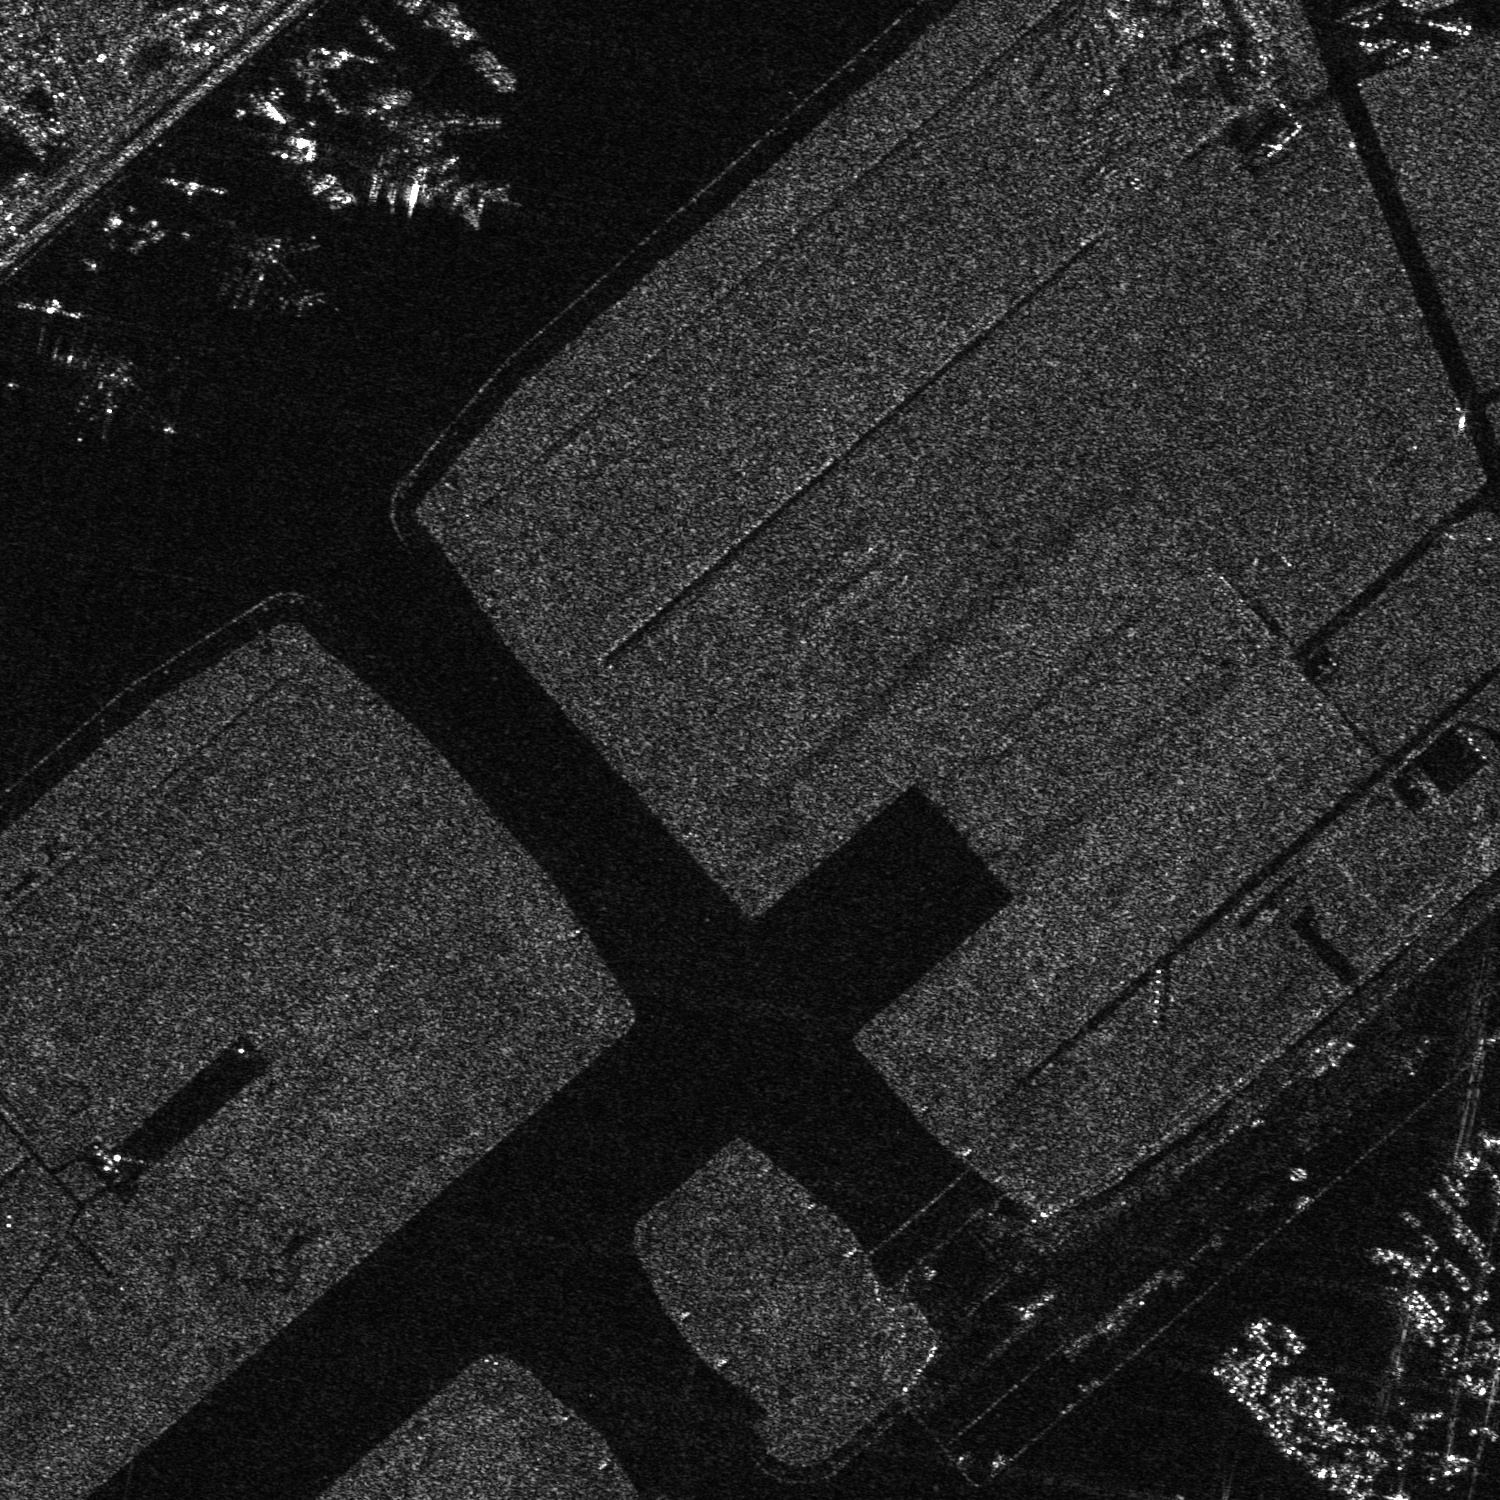Boeing737: (231, 229, 330, 321)
other: (367, 106, 523, 232), (38, 349, 181, 451)
